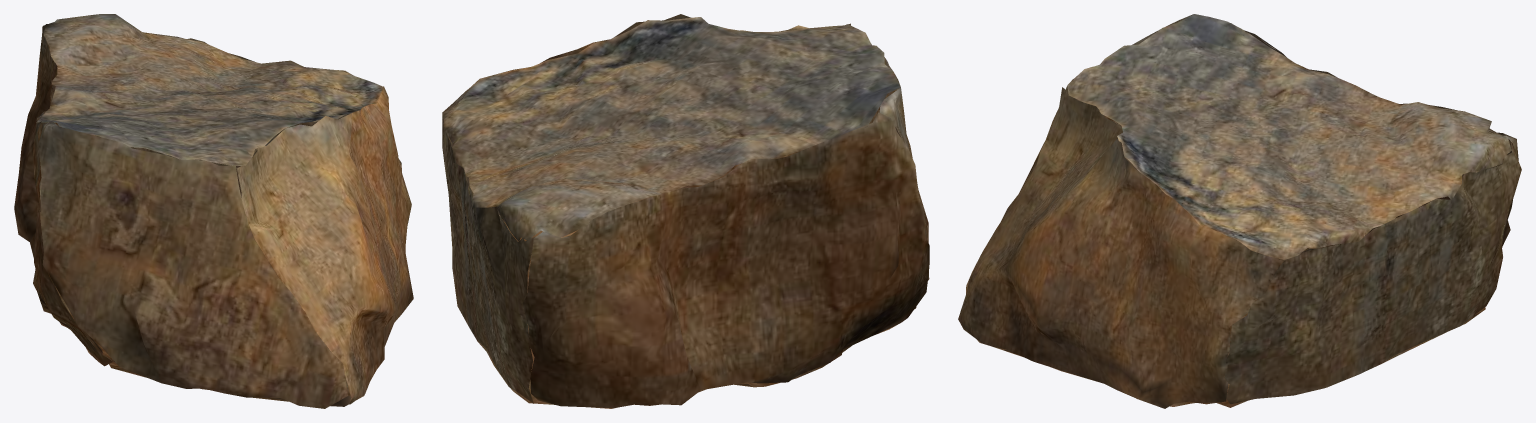
Rendered from namaqualand_boulder_03_lod1.glb.
The picture shows the model from 3 angles, left to right: view 1: azimuth 30°, elevation 25°; view 2: azimuth 150°, elevation 25°; view 3: azimuth 270°, elevation 25°; orthographic projection. The views are drawn at different scales.
Parts seen in each view (by area): view 1: boulder_03_LOD0; view 2: boulder_03_LOD0; view 3: boulder_03_LOD0.
Part boxes in pixels (x1,y1,x2,y2): boulder_03_LOD0: (14, 14, 413, 408); boulder_03_LOD0: (442, 14, 929, 408); boulder_03_LOD0: (958, 14, 1521, 408).
Size of the model in its own units: 2.41 by 1.47 by 3.1.
Materials: 1 (1 with a texture image).
